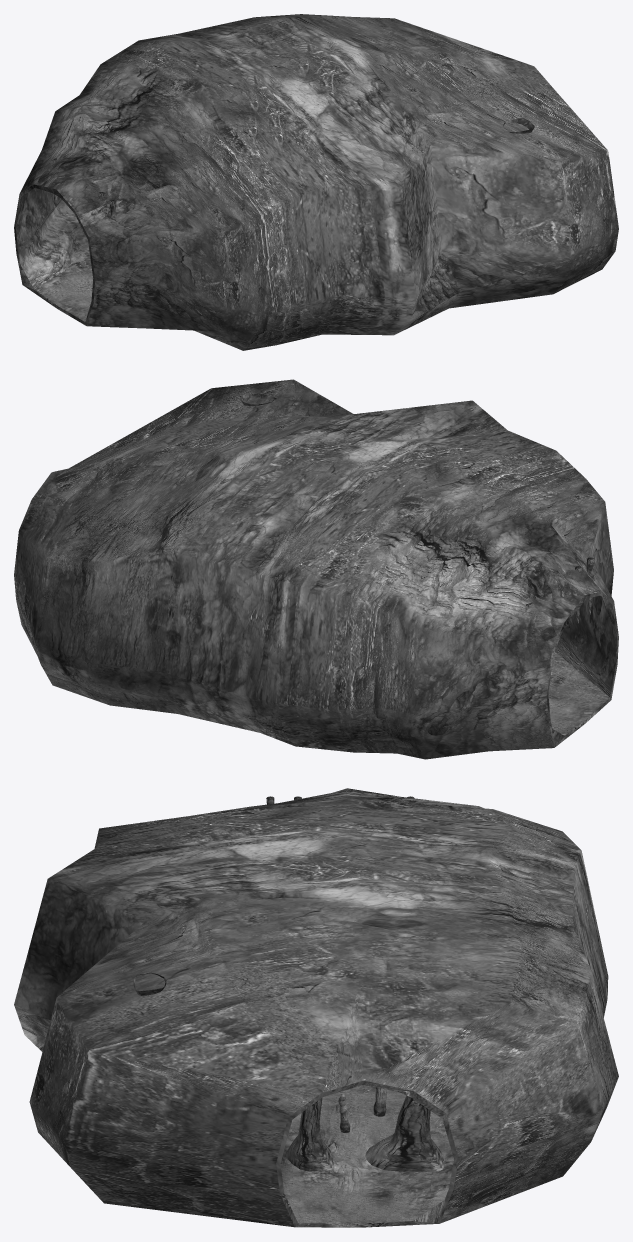
Rendered from cavelargeroom1.fbx.
The picture shows the model from 3 angles, top to bottom: view 1: azimuth 30°, elevation 25°; view 2: azimuth 150°, elevation 25°; view 3: azimuth 270°, elevation 25°; orthographic projection. The views are drawn at different scales.
Parts seen in each view (by area): view 1: entrance, cavelarge; view 2: entrance, cavelarge; view 3: entrance, cavelarge.
Boxes of the visible parts, x1=… form: entrance: x1=14, y1=14, x2=618, y2=350; cavelarge: x1=53, y1=118, x2=534, y2=229; entrance: x1=14, y1=379, x2=618, y2=759; cavelarge: x1=239, y1=393, x2=593, y2=623; entrance: x1=14, y1=788, x2=618, y2=1227; cavelarge: x1=133, y1=796, x2=444, y2=1171.
Bounding box in the file's own units: 392 × 140 × 338.
Materials: 3 (3 with a texture image).
